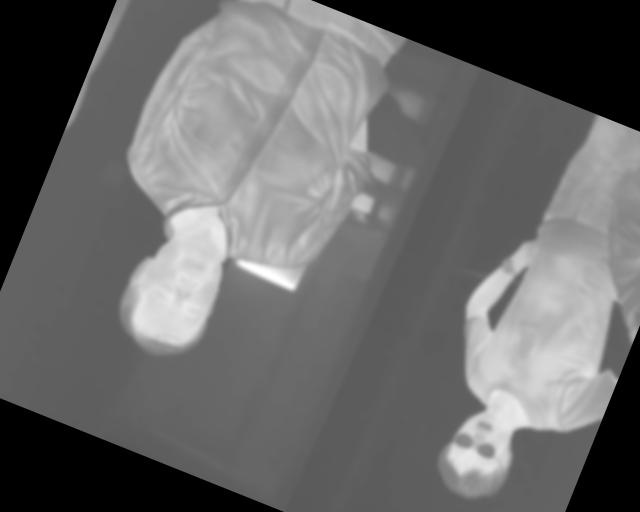face: (104, 216, 238, 372), (427, 394, 529, 510)
